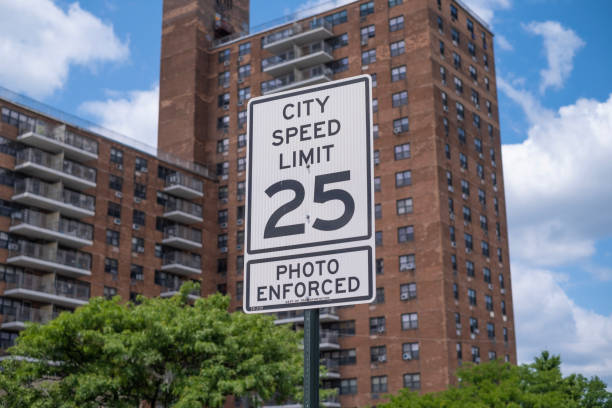SpeedLimitSign: (243, 73, 374, 256)
